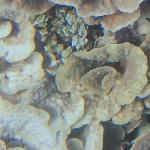dead: (5, 1, 144, 145)
